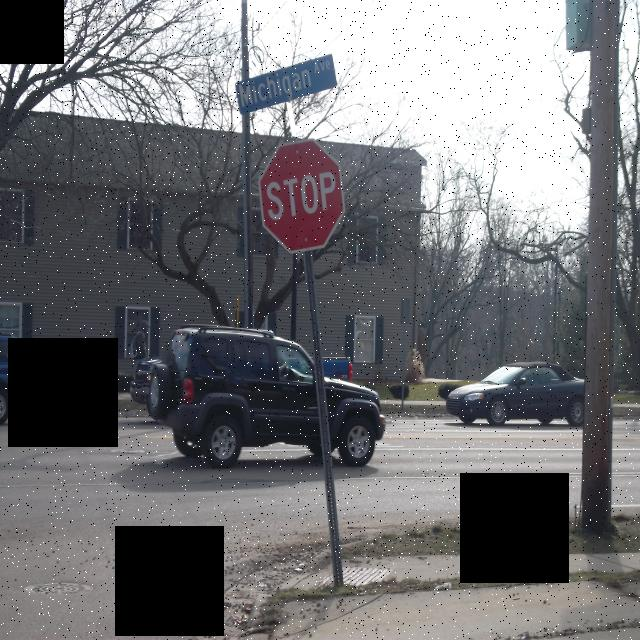stop: (256, 138, 347, 256)
